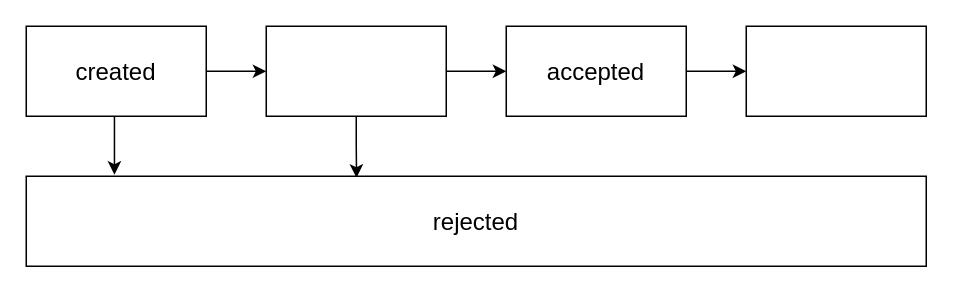
This 953x293 diagram has some shape labels left out. The shapes that lost their labels are listed below. From the top down, each one's centre as x and y in pixels, then its label:
At point 355,70: "rated".
At point 835,70: "done".
